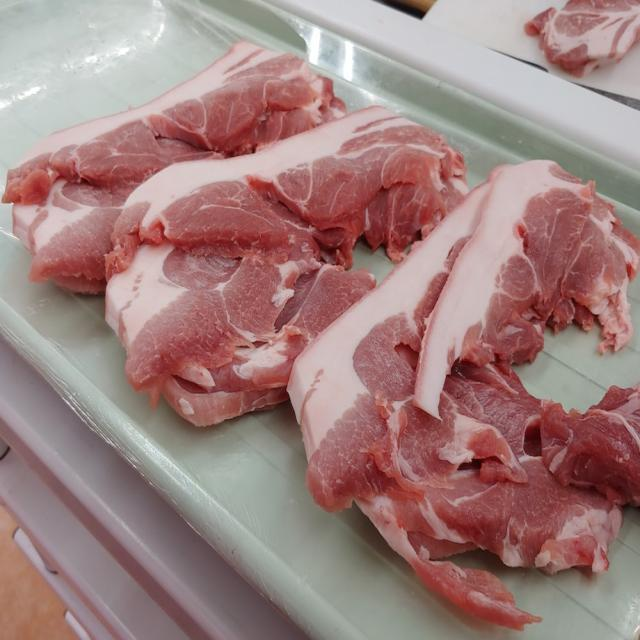Pork: (410, 155, 640, 421), (0, 36, 339, 212), (130, 111, 468, 248)
